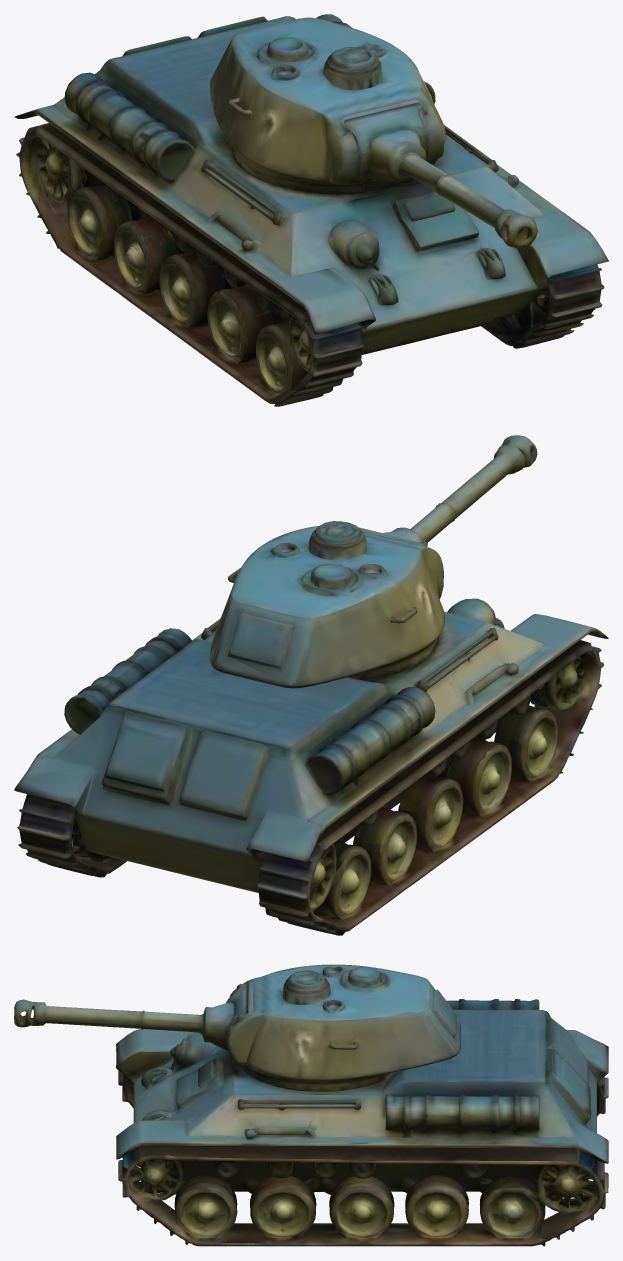
The model's file is kv1s_opt.glb.
3 views of the same model, one above another, from view 1: azimuth 30°, elevation 25°; view 2: azimuth 150°, elevation 25°; view 3: azimuth 270°, elevation 25° (orthographic). The views are drawn at different scales.
Parts seen in each view (by area): view 1: node_0; view 2: node_0; view 3: node_0.
Part boxes in pixels (box(x1,y1,x2,y2)): node_0: box(14, 14, 608, 406); node_0: box(14, 435, 608, 935); node_0: box(14, 964, 608, 1246).
Bounding box in the file's own units: 0.5002 × 0.4293 × 1.07.
Materials: 1 (1 with a texture image).
